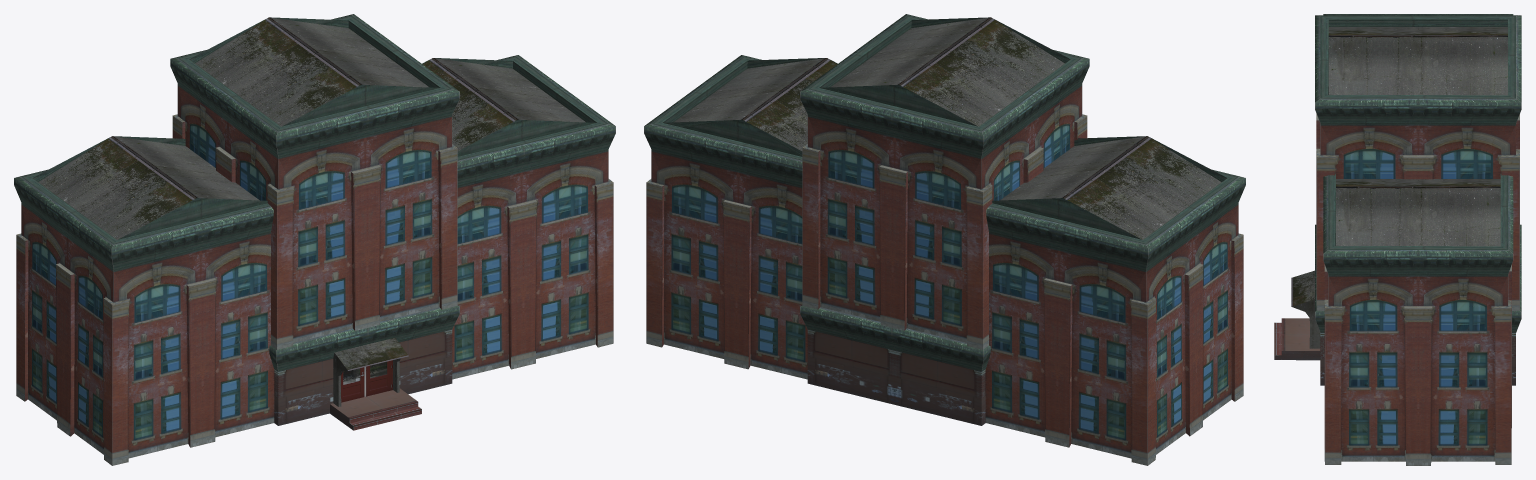
File: building_007_v1.fbx
3 renders of one model, left to right at view 1: azimuth 30°, elevation 25°; view 2: azimuth 150°, elevation 25°; view 3: azimuth 270°, elevation 25°, orthographic. The views are drawn at different scales.
Parts seen in each view (by area): view 1: sky_3; view 2: sky_3; view 3: sky_3.
Part boxes in pixels (<box>): sky_3: <box>14,14,615,465</box>; sky_3: <box>644,14,1245,465</box>; sky_3: <box>1274,14,1521,465</box>.
Bounding box in the file's own units: 27.79 × 16.81 × 12.1.
